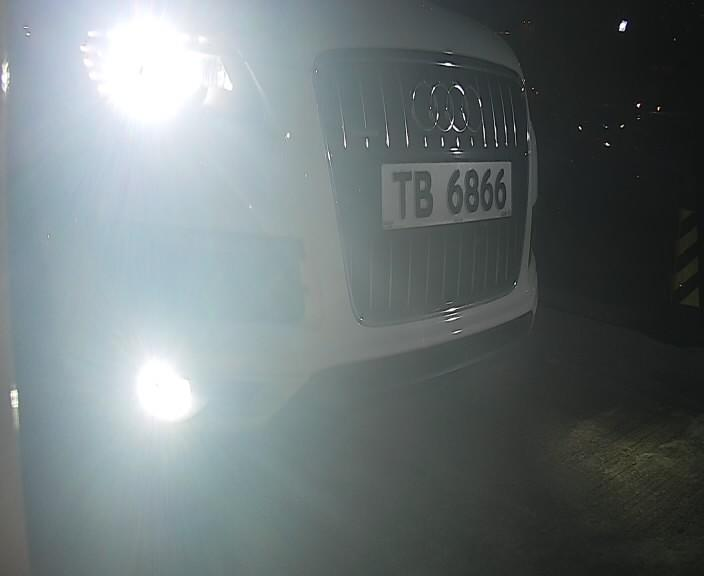Car: (23, 6, 598, 456)
License Plate: (360, 142, 538, 249)
